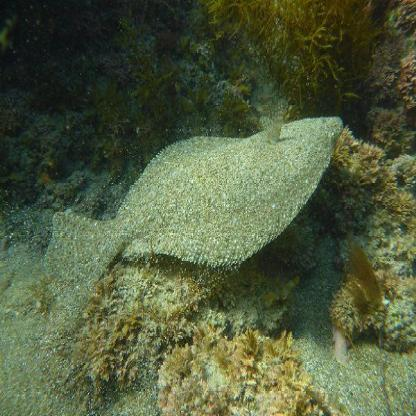flounder: (50, 102, 346, 325)
